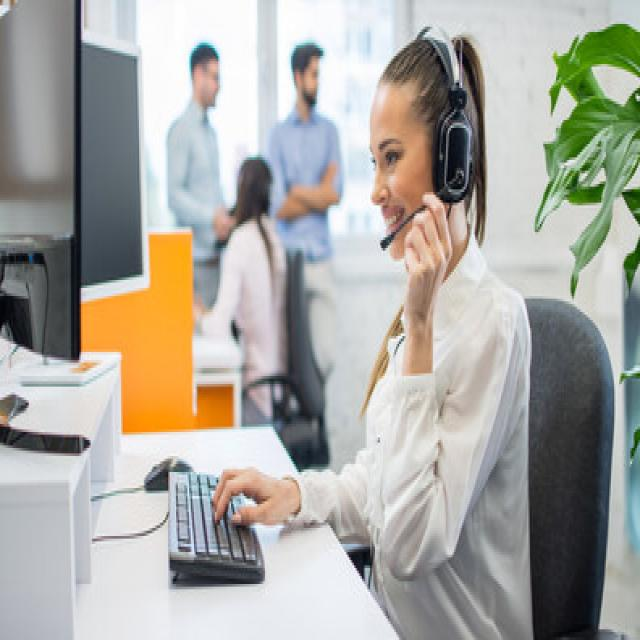Headphone: (380, 24, 475, 254)
